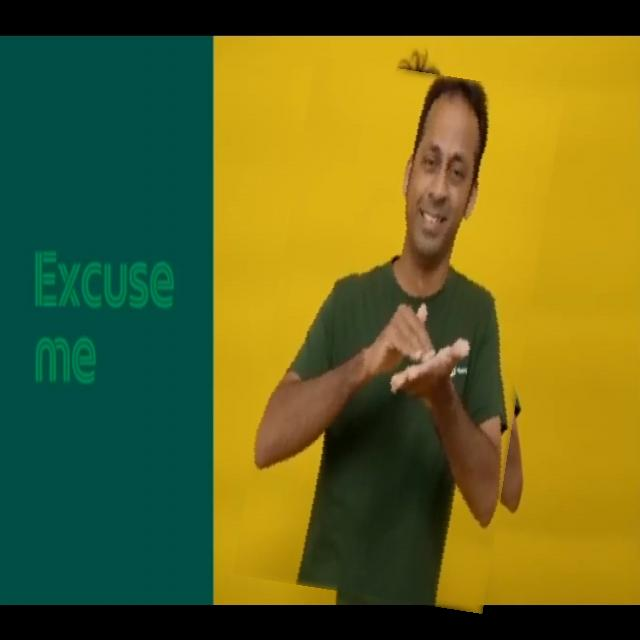ExcuseMe: (252, 64, 545, 606)
